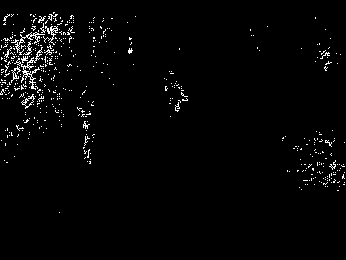person: (76, 86, 99, 168)
